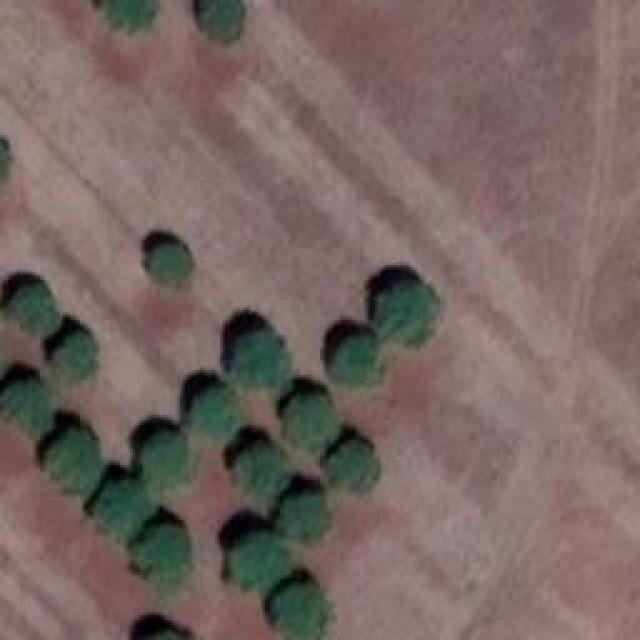Tree: (138, 523, 193, 598), (378, 285, 443, 348), (42, 428, 100, 493), (273, 585, 338, 640), (230, 535, 290, 593), (93, 478, 148, 541), (0, 380, 52, 445), (230, 445, 283, 508), (233, 328, 288, 388), (0, 283, 60, 338), (283, 395, 336, 453), (330, 335, 385, 388), (325, 440, 380, 493), (140, 430, 188, 488), (278, 493, 331, 538), (190, 388, 233, 441), (50, 332, 95, 380), (100, 0, 158, 35), (148, 245, 193, 288), (203, 0, 243, 45)
